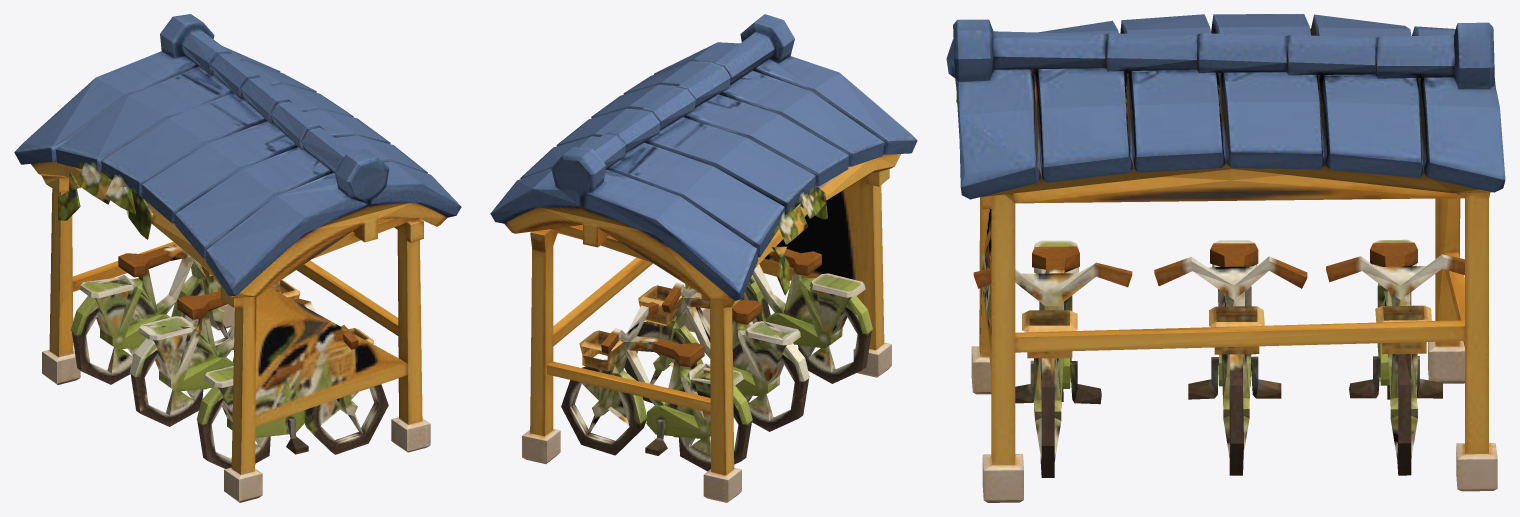
The model's file is bikeshelter-oSFI8glu.glb.
The picture shows the model from 3 angles, left to right: view 1: azimuth 30°, elevation 25°; view 2: azimuth 150°, elevation 25°; view 3: azimuth 270°, elevation 25°; orthographic projection. The views are drawn at different scales.
Visible parts, largest first — view 1: tripo_node_3d5855fe-e360-4b2f-9113-05acb6634ce5; view 2: tripo_node_3d5855fe-e360-4b2f-9113-05acb6634ce5; view 3: tripo_node_3d5855fe-e360-4b2f-9113-05acb6634ce5.
Part boxes in pixels (left/top/right/bottom): tripo_node_3d5855fe-e360-4b2f-9113-05acb6634ce5: left=14, top=14, right=461, bottom=502; tripo_node_3d5855fe-e360-4b2f-9113-05acb6634ce5: left=490, top=14, right=917, bottom=502; tripo_node_3d5855fe-e360-4b2f-9113-05acb6634ce5: left=946, top=14, right=1505, bottom=502.
Size of the model in its own units: 0.7097 by 0.8475 by 0.9775.
1 material, 1 textured.
